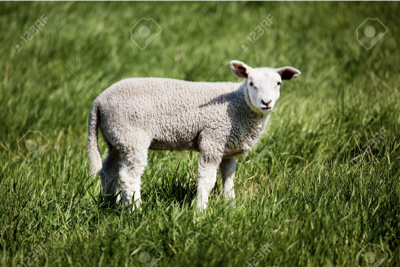koyun: (87, 61, 300, 213)
